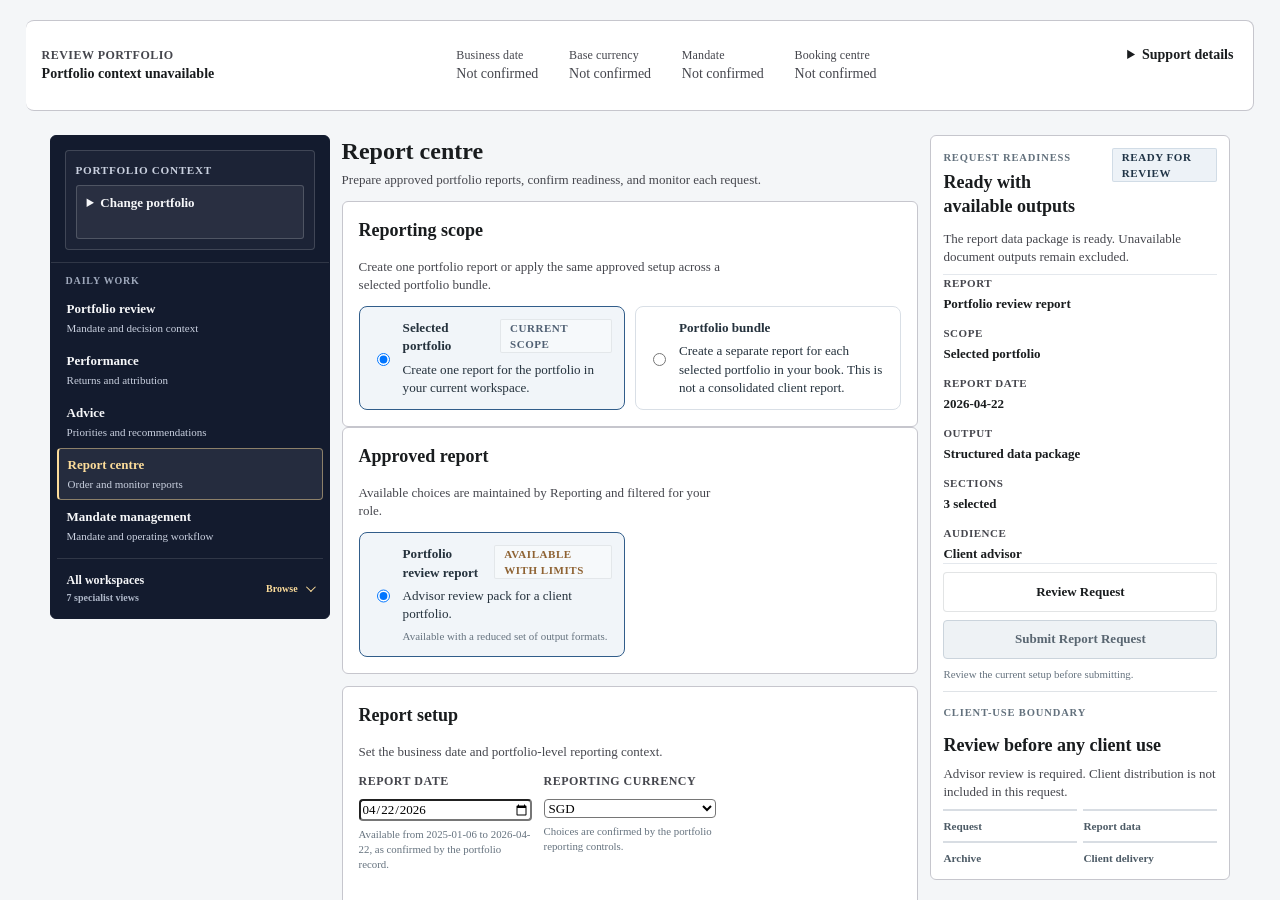
Test case: ReportOrderingWorkspace › keeps a valid acceptance distinct when the subsequent history refresh fails
The width and height of the screenshot is (1280, 900).
Expected: the heading "Approved report" is shown, [359,446,488,466]
Click the button "Review Request" at (1080, 592), box [943,572,1217,612]
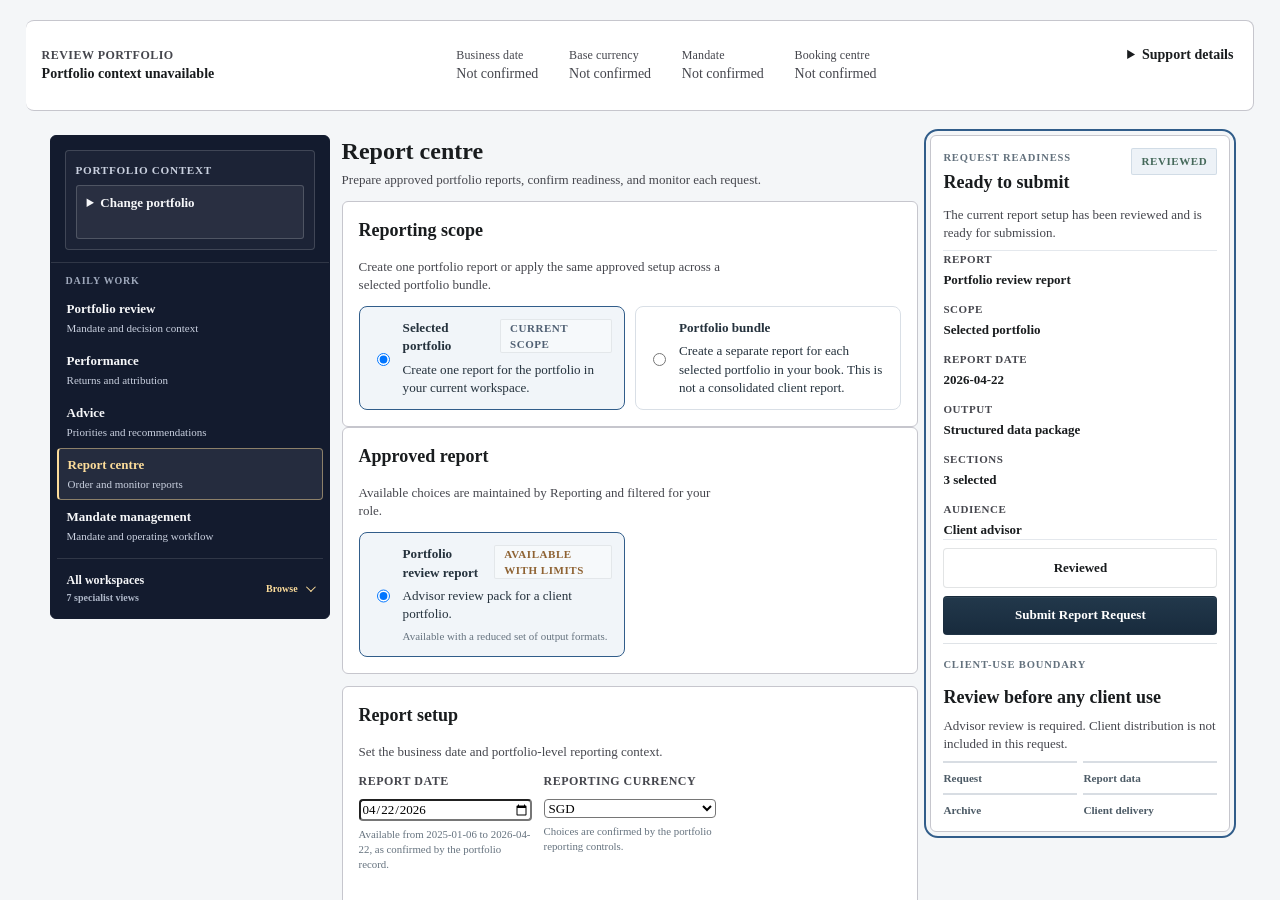
Expected: the button "Submit Report Request" is enabled
Click the button "Submit Report Request" at (1080, 616), box [943,596,1217,635]
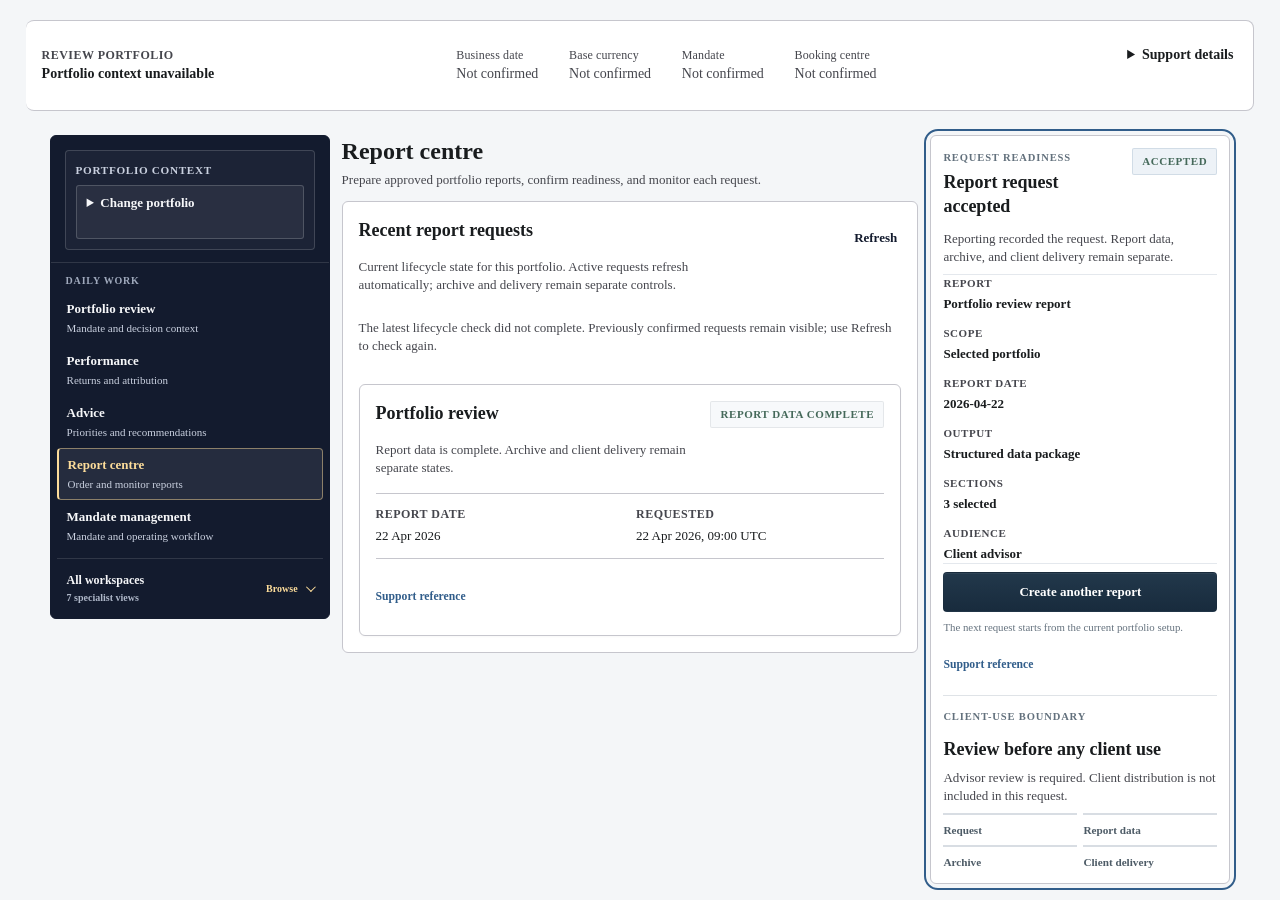
Expected: the heading "Report request accepted" is shown, [943,172,1059,216]
Expected: the text "The latest lifecycle check did not complete. Previously confirmed requests remain visible; use Refresh to check again." is shown, [359,320,891,353]
